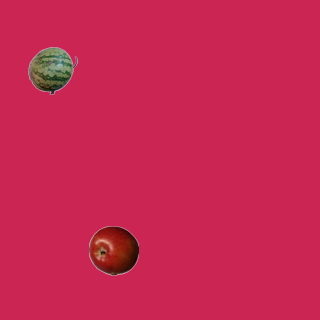Apple Braeburn: (88, 225, 138, 275)
Watermelon: (27, 45, 77, 95)
